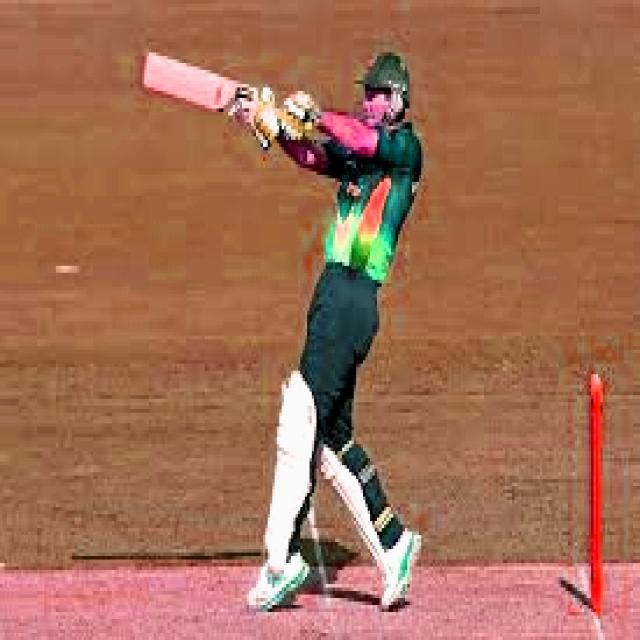toe: (142, 55, 150, 88)
